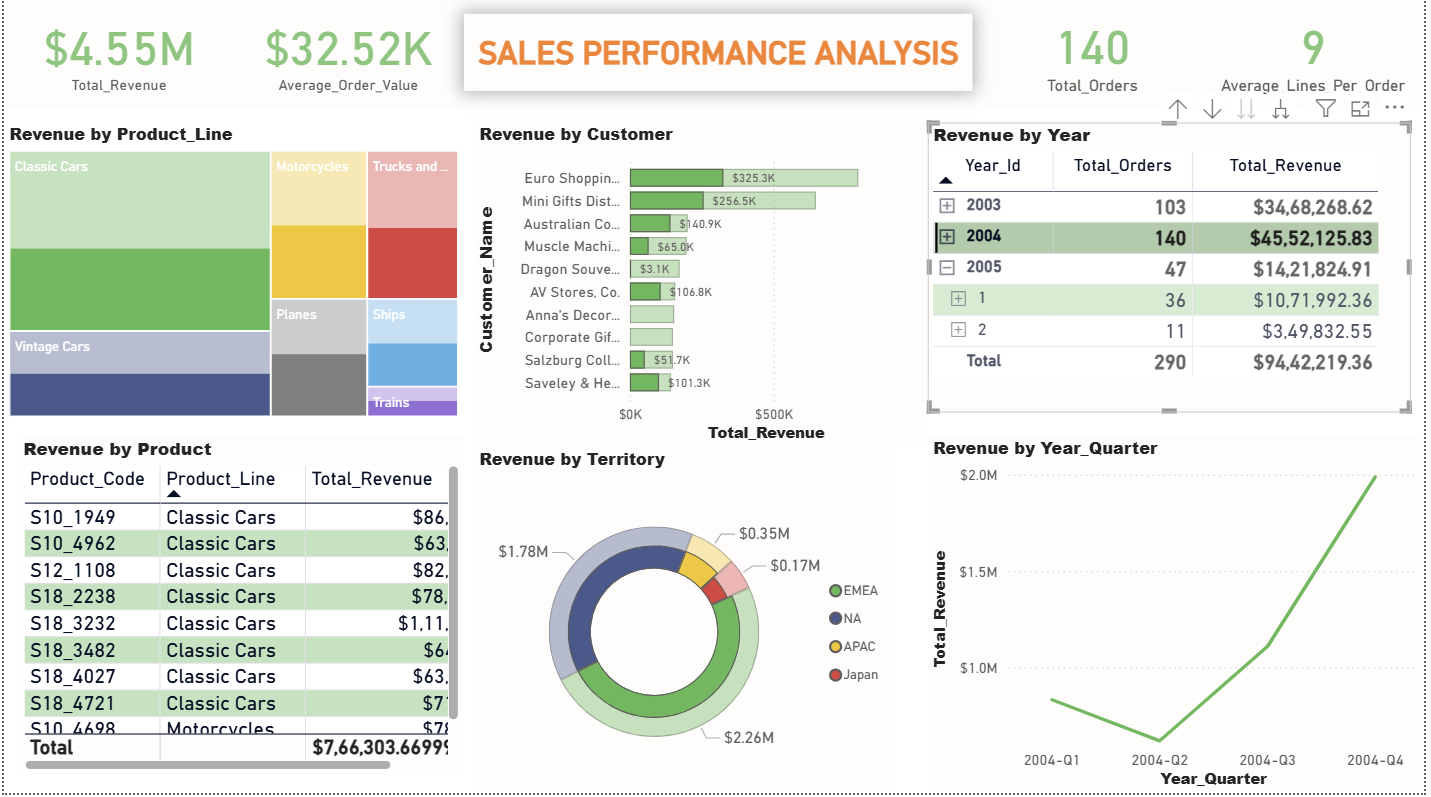

Layout of this report page (visuals, bound fields, positions):
{"tool":"powerbi","page":{"name":"Page 1","canvas":[1280,720],"ordinal":0},"visuals":[{"type":"card","fields":{"Values":["_Measure.Average_Lines_Per_Order"]},"box":[1081,0,199.3,102.7],"z":0},{"type":"card","fields":{"Values":["_Measure.Total_Revenue"]},"box":[0,0,207.9,102.7],"z":1000},{"type":"card","fields":{"Values":["_Measure.Total_Orders"]},"box":[882.9,0,198.1,102.7],"z":2000},{"type":"card","fields":{"Values":["_Measure.Average_Order_Value"]},"box":[207.9,0,206.7,102.7],"z":3000},{"type":"clusteredBarChart","title":"Revenue by Customer","fields":{"Y":["_Measure.Total_Revenue"],"Category":["Sales.Customer_Name"]},"box":[424.3,114.9,408.4,293.5],"z":5000},{"type":"pivotTable","title":"Revenue by Year","fields":{"Rows":["Sales.Year_Id","Sales.Quarter_Id","Sales.Month_Id"],"Values":["_Measure.Total_Orders","_Measure.Total_Revenue"]},"box":[832.7,114.9,435.3,261.7],"z":6000},{"type":"lineChart","title":"Revenue by Year_Quarter","fields":{"Category":["Sales.Year_Quarter"],"Y":["_Measure.Total_Revenue"]},"box":[832.7,397.4,447.6,322.8],"z":7000},{"type":"treemap","title":"Revenue by Product_Line","fields":{"Group":["Sales.Product_Line"],"Values":["_Measure.Total_Revenue"]},"box":[0,114.9,414.5,270.2],"z":8000},{"type":"tableEx","title":"Revenue by Product","fields":{"Values":["Sales.Product_Code","Sales.Product_Line","_Measure.Total_Revenue"]},"box":[12.2,397.4,402.3,305.7],"z":9000},{"type":"donutChart","title":"Revenue by Territory","fields":{"Category":["Sales.Territory"],"Y":["_Measure.Total_Revenue"]},"box":[424.3,408.4,379.1,311.8],"z":10000},{"type":"textbox","box":[414.8,16.9,458.7,69.9],"z":11000}]}

Visuals, with their boxes in screenshot pixels (x1, y1, x2, y2), scaled from the page's 1280x720 canvas onto the 1431x797 screenshot:
card - _Measure.Average_Lines_Per_Order: <region>1209, 0, 1430, 114</region>
card - _Measure.Total_Revenue: <region>0, 0, 232, 114</region>
card - _Measure.Total_Orders: <region>987, 0, 1209, 114</region>
card - _Measure.Average_Order_Value: <region>232, 0, 464, 114</region>
"Revenue by Customer" clusteredBarChart: <region>474, 127, 931, 452</region>
"Revenue by Year" pivotTable: <region>931, 127, 1418, 417</region>
"Revenue by Year_Quarter" lineChart: <region>931, 440, 1430, 796</region>
"Revenue by Product_Line" treemap: <region>0, 127, 463, 426</region>
"Revenue by Product" tableEx: <region>14, 440, 463, 778</region>
"Revenue by Territory" donutChart: <region>474, 452, 898, 796</region>
textbox: <region>464, 19, 977, 96</region>
